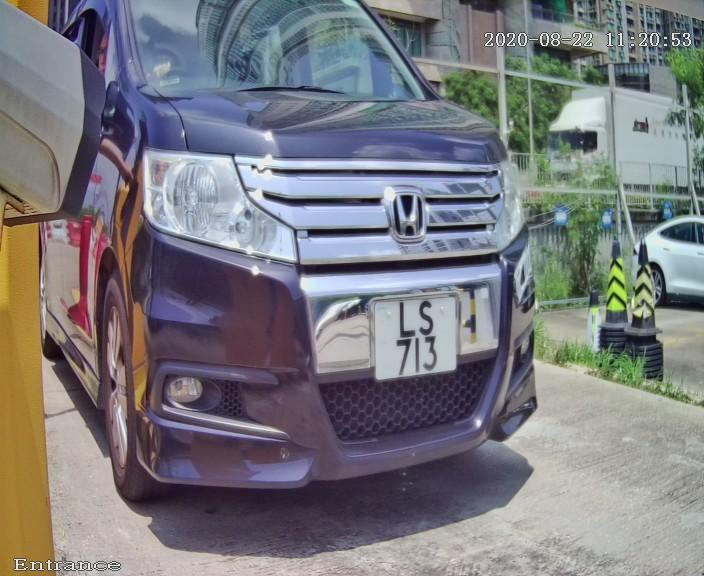Car: (35, 8, 585, 548)
License Plate: (356, 265, 478, 399)
